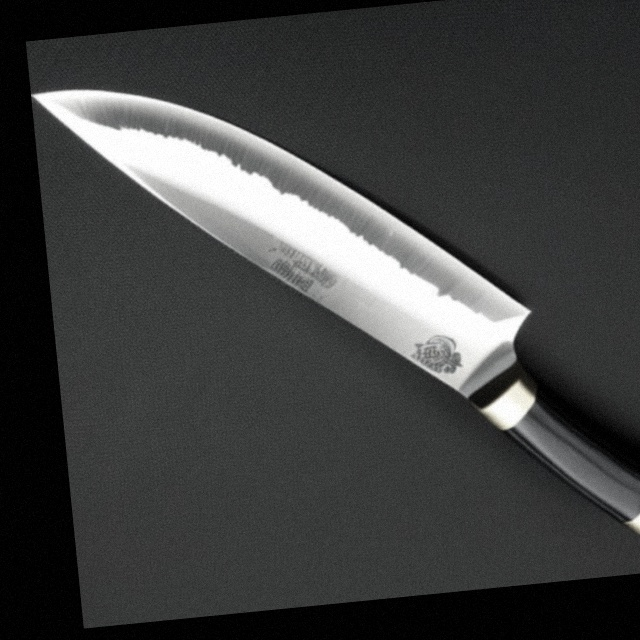Sharp-Object: (31, 27, 640, 598)
